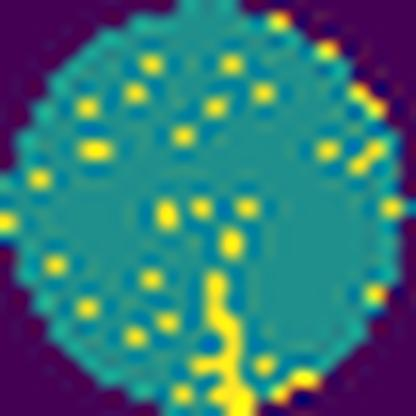Scratch: (186, 266, 261, 416)
